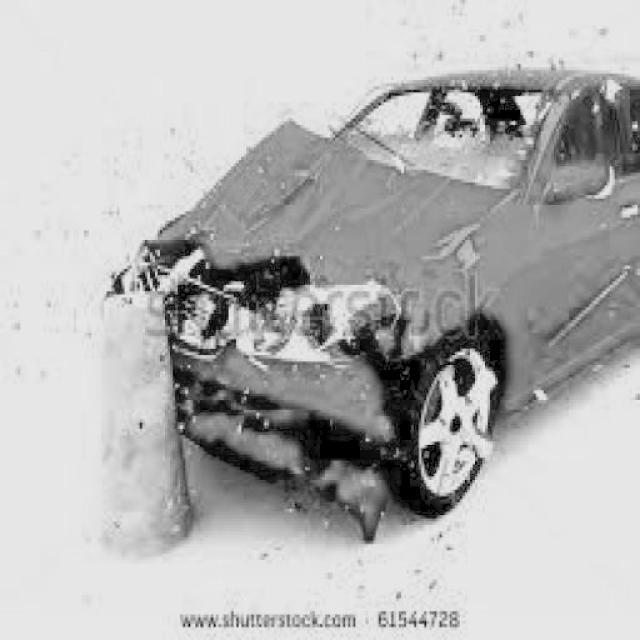car damage: (111, 92, 573, 516)
